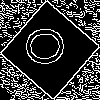O: (25, 25, 74, 67)
